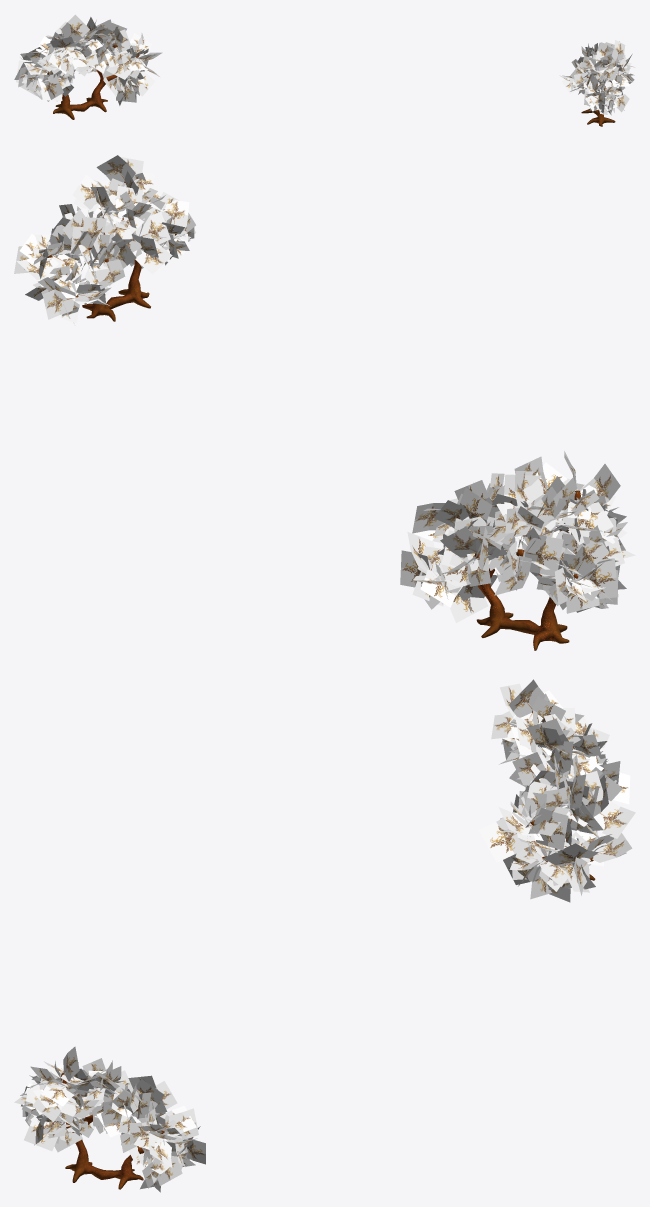
Rendered from Golden_tree.glb.
The picture shows the model from 3 angles, top to bottom: view 1: azimuth 30°, elevation 25°; view 2: azimuth 150°, elevation 25°; view 3: azimuth 270°, elevation 25°; orthographic projection. The views are drawn at different scales.
Parts seen in each view (by area): view 1: Goldren_tree.001, Goldren_tree; view 2: Goldren_tree.001, Goldren_tree; view 3: Goldren_tree.001, Goldren_tree.
Part boxes in pixels (x1,y1,x2,y2): Goldren_tree.001: (14, 14, 162, 119); Goldren_tree: (559, 40, 635, 126); Goldren_tree.001: (400, 451, 635, 650); Goldren_tree: (14, 155, 195, 323); Goldren_tree.001: (478, 679, 635, 902); Goldren_tree: (14, 1046, 205, 1192).
Size of what is drawn, in the model's own units: 31.17 by 6.6 by 20.69.
Materials: 2 (2 with a texture image).
